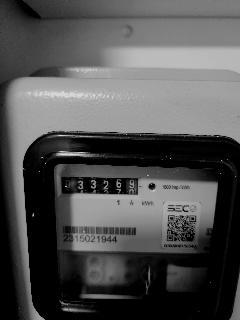1: (66, 180, 71, 188)
3: (104, 181, 109, 189)
4: (79, 181, 84, 189), (91, 180, 96, 188)
7: (117, 179, 122, 188)
:: (130, 180, 135, 189)
